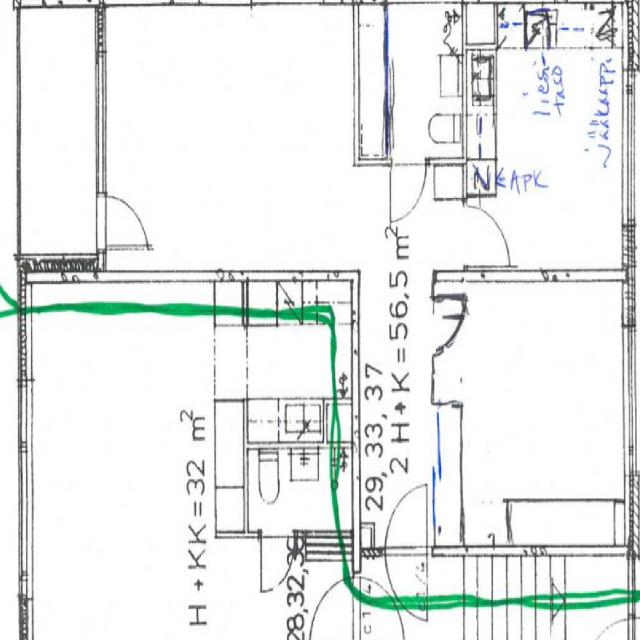door: (384, 484, 426, 556), (384, 545, 426, 617), (462, 204, 508, 265), (430, 297, 474, 355), (96, 194, 140, 248), (391, 157, 426, 218)
